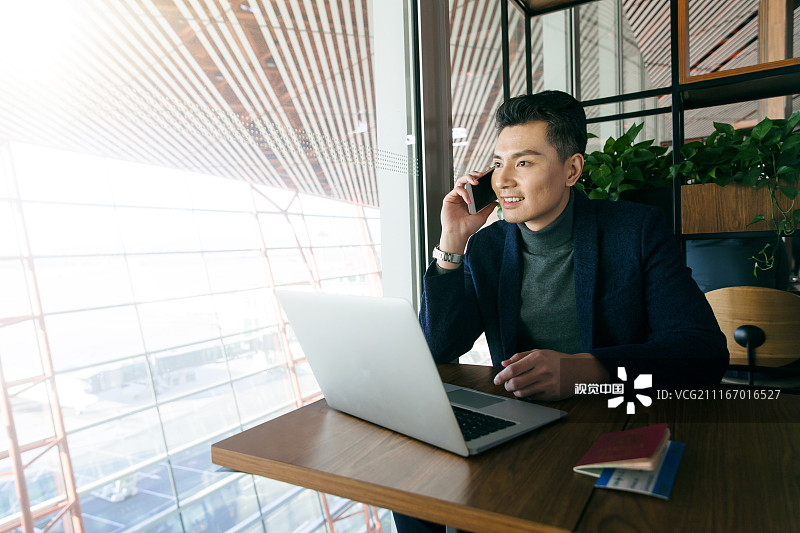calling: (421, 156, 509, 266)
no-phone: (483, 335, 581, 408)
